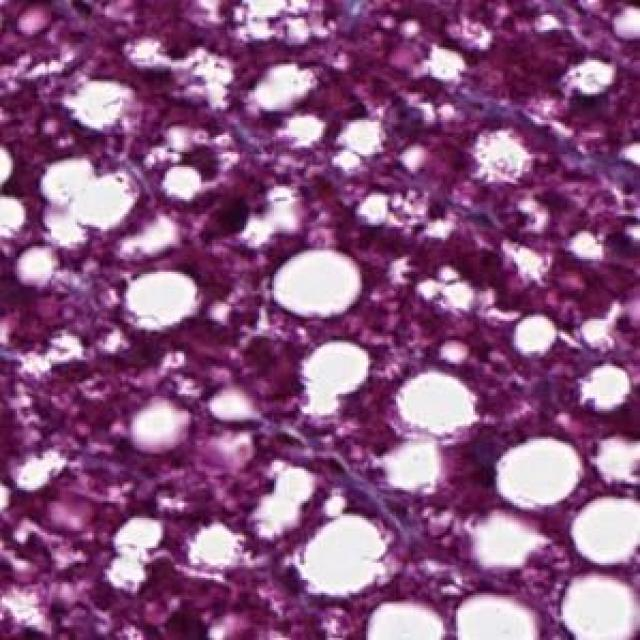steatosis: (295, 512, 394, 595), (394, 366, 488, 439), (276, 251, 364, 321), (559, 567, 638, 640), (499, 437, 580, 507), (124, 261, 197, 338), (573, 492, 640, 562), (460, 588, 533, 640), (370, 595, 443, 640)
